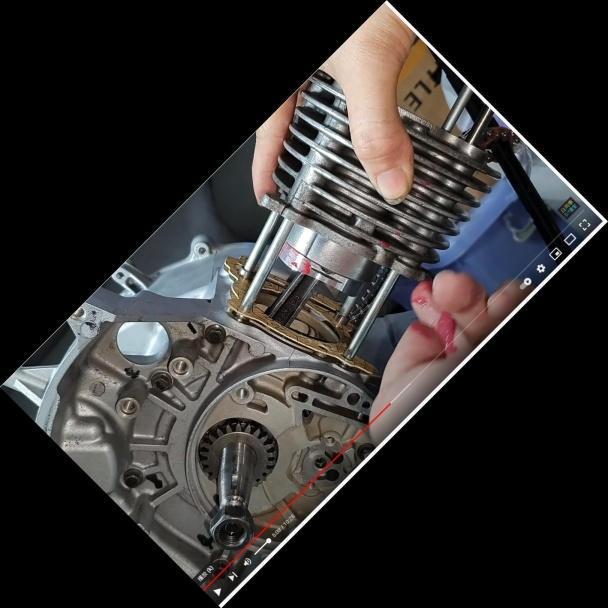hole: (112, 392, 143, 423), (166, 354, 193, 381), (229, 382, 252, 405), (318, 429, 341, 452)
